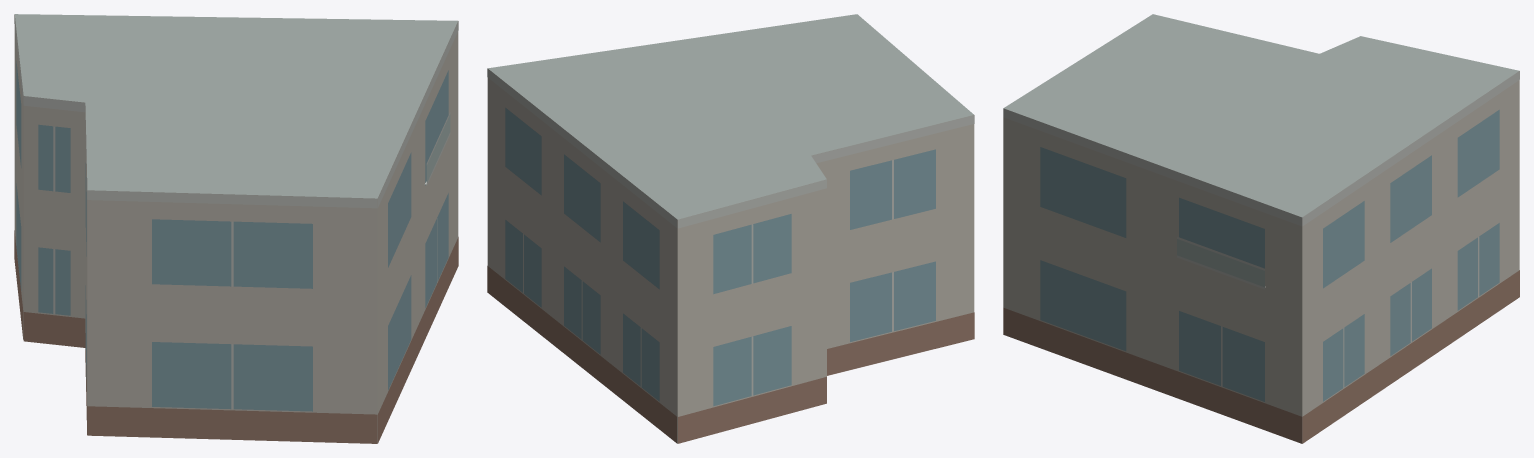
The model's file is survey-upis-32625231.glb.
3 views of the same model, side by side, from view 1: azimuth 30°, elevation 25°; view 2: azimuth 150°, elevation 25°; view 3: azimuth 270°, elevation 25° (orthographic). The views are drawn at different scales.
Parts seen in each view (by area): view 1: survey-upis-32625231.tmp; view 2: survey-upis-32625231.tmp; view 3: survey-upis-32625231.tmp.
Part boxes in pixels (bbox=[...]): survey-upis-32625231.tmp: bbox=[14, 14, 458, 443]; survey-upis-32625231.tmp: bbox=[487, 14, 974, 443]; survey-upis-32625231.tmp: bbox=[1003, 14, 1519, 443].
Bounding box in the file's own units: 11.77 × 6.1 × 12.62.
